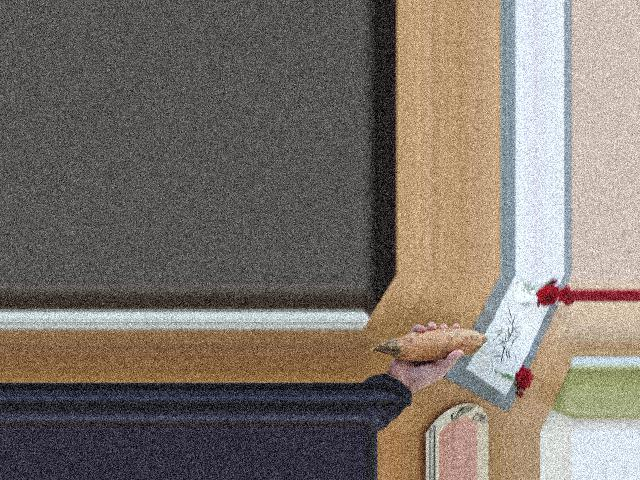sweet_potato: (380, 323, 489, 371)
